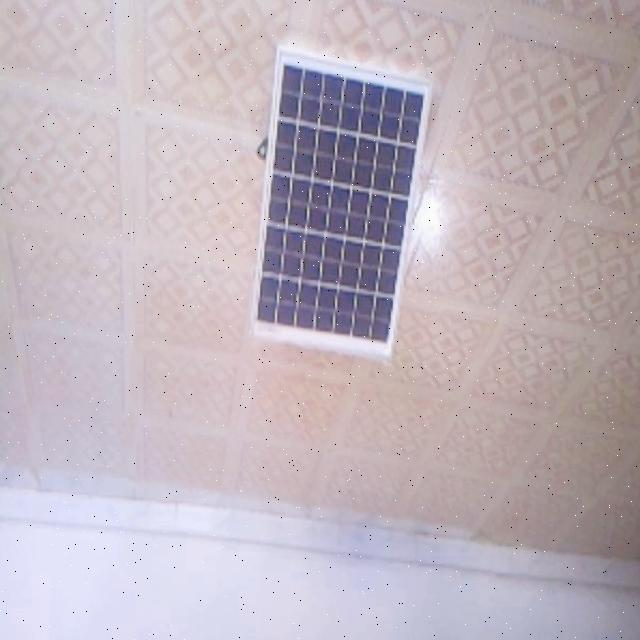Normal Solar Panel: (252, 49, 430, 358)
